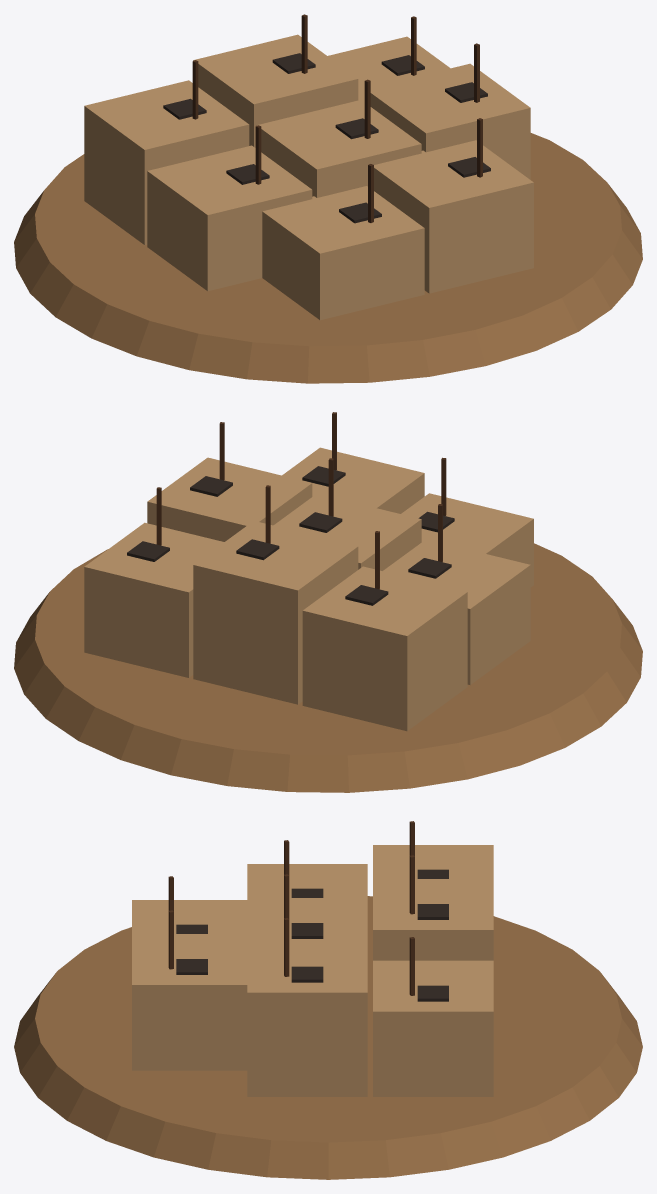
The model's file is catalhoyuk.glb.
3 views of the same model, one above another, from view 1: azimuth 30°, elevation 25°; view 2: azimuth 150°, elevation 25°; view 3: azimuth 270°, elevation 25° (orthographic).
Bounding box in the file's own units: 0.6 × 0.21 × 0.6.
